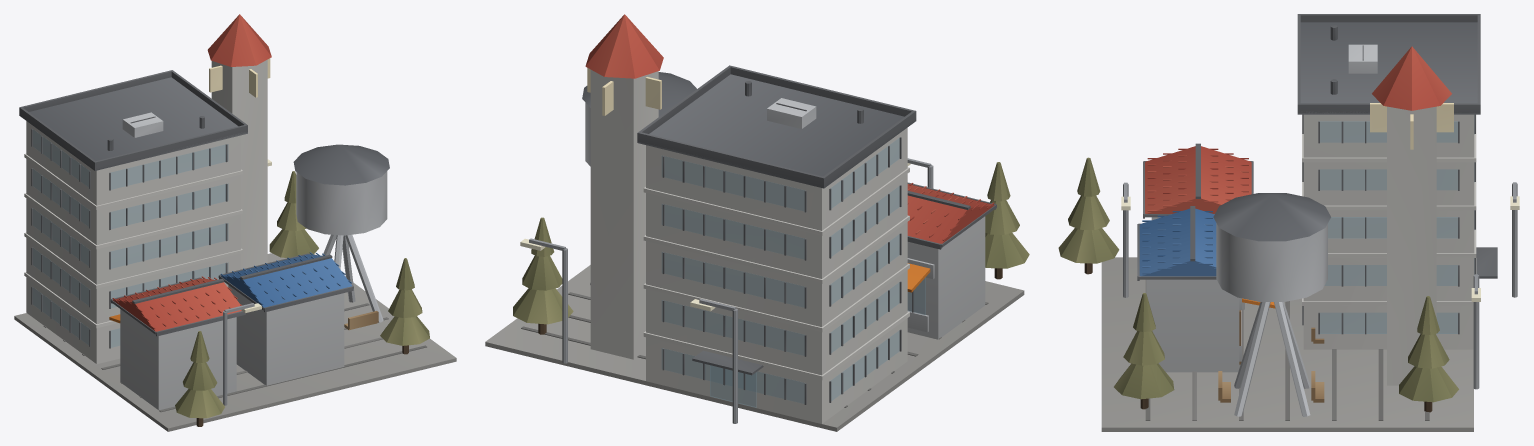
Rendered from Civic_P3.fbx.
3 views of the same model, side by side, from view 1: azimuth 30°, elevation 25°; view 2: azimuth 150°, elevation 25°; view 3: azimuth 270°, elevation 25° (orthographic). The views are drawn at different scales.
Visible parts, largest first — view 1: Civic.Hall, Civic.Shop1, Civic.Shop0, Civic.Plaza, Civic.WaterTower, Civic.Tower, Civic.Tree2, Civic.Tree1, Civic.Tree0, Civic.Paving, Civic.Lamp0, Civic.Benches; view 2: Civic.Hall, Civic.Tower, Civic.Plaza, Civic.Shop0, Civic.Tree0, Civic.Tree2, Civic.WaterTower, Civic.Lamp1, Civic.Lamp2; view 3: Civic.Hall, Civic.Plaza, Civic.Tower, Civic.WaterTower, Civic.Shop1, Civic.Shop0, Civic.Tree2, Civic.Tree0, Civic.Tree1, Civic.Paving, Civic.Lamp1, Civic.Benches (+2 smaller).
Boxes of the visible parts, x1,y1,x2,y2 form: Civic.Hall: (19,70,247,363); Civic.Shop1: (218,252,353,385); Civic.Shop0: (109,276,245,410); Civic.Plaza: (14,253,456,431); Civic.WaterTower: (293,144,389,322); Civic.Tower: (207,14,271,269); Civic.Tree2: (175,331,224,426); Civic.Tree1: (380,258,429,354); Civic.Tree0: (269,171,318,257); Civic.Paving: (43,303,426,412); Civic.Lamp0: (223,303,261,405); Civic.Benches: (344,311,378,330); Civic.Hall: (637,65,916,423); Civic.Tower: (585,14,663,359); Civic.Plaza: (485,265,1024,431); Civic.Shop0: (907,182,996,339); Civic.Tree0: (513,217,573,334); Civic.Tree2: (985,162,1029,279); Civic.WaterTower: (582,72,696,284); Civic.Lamp1: (520,238,567,363); Civic.Lamp2: (690,299,737,423); Civic.Hall: (1297,14,1497,349); Civic.Plaza: (1101,257,1473,431); Civic.Tower: (1370,46,1453,385); Civic.WaterTower: (1213,193,1330,416); Civic.Shop1: (1137,206,1275,372); Civic.Shop0: (1143,143,1253,309); Civic.Tree2: (1058,157,1119,274); Civic.Tree0: (1399,296,1458,412); Civic.Tree1: (1114,293,1174,409); Civic.Paving: (1145,280,1429,420); Civic.Lamp1: (1471,274,1480,389); Civic.Benches: (1218,327,1324,402).
Size of the model in its own units: 2600 by 2371 by 2970.
